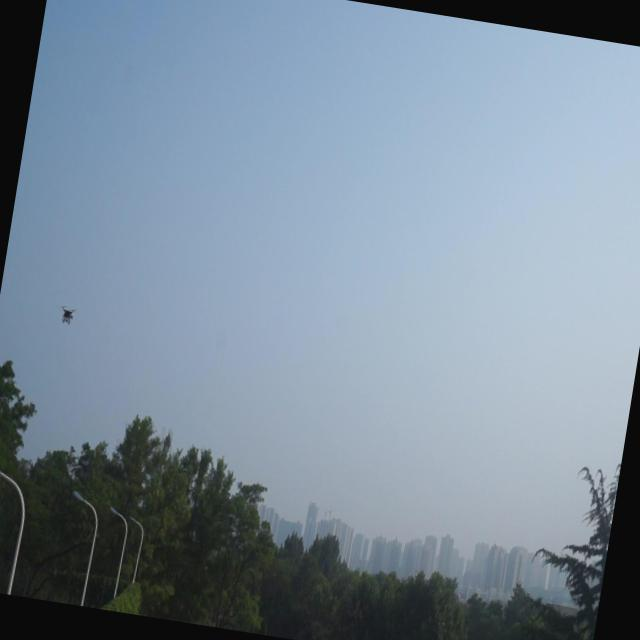drone: (57, 304, 79, 329)
